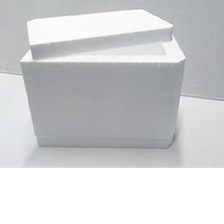foam_box: (14, 5, 191, 152)
